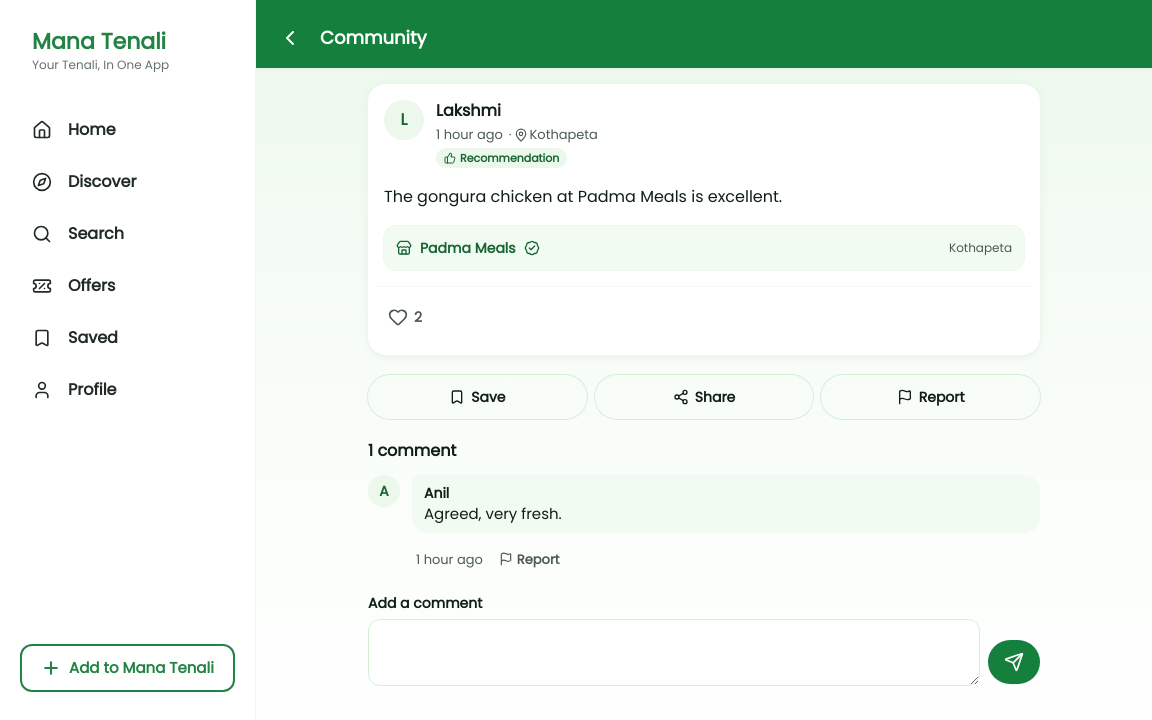
Scenario: post page › shows the full post and comments; signed-in people comment
Check: the text "Agreed, very fresh." is shown, box [424,503,562,524]
Check: the heading "1 comment" is shown, box [368,439,456,462]
Step 1. Click the button named "Send comment" → (1014, 662), box [988,640,1040,684]
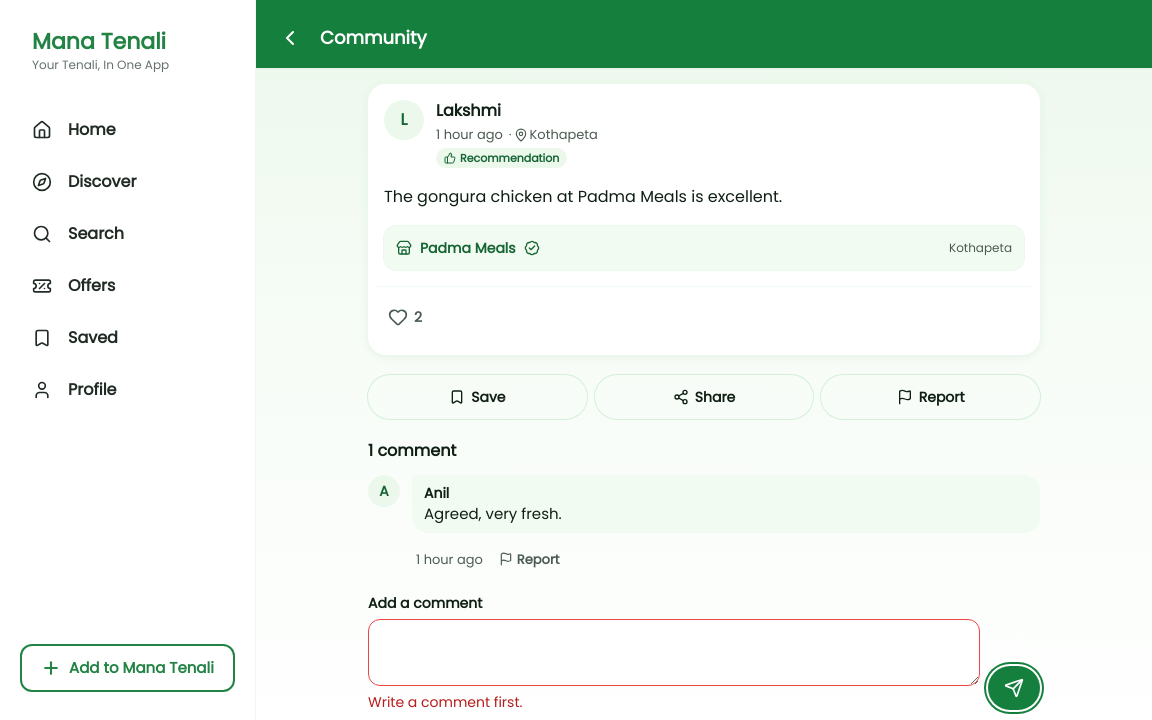
Check: the text "Write a comment first." is shown, box [368,692,522,712]
Step 2. Type "Will try it this week." into the text box labelled "Add a comment" → (674, 653), box [368,619,980,686]
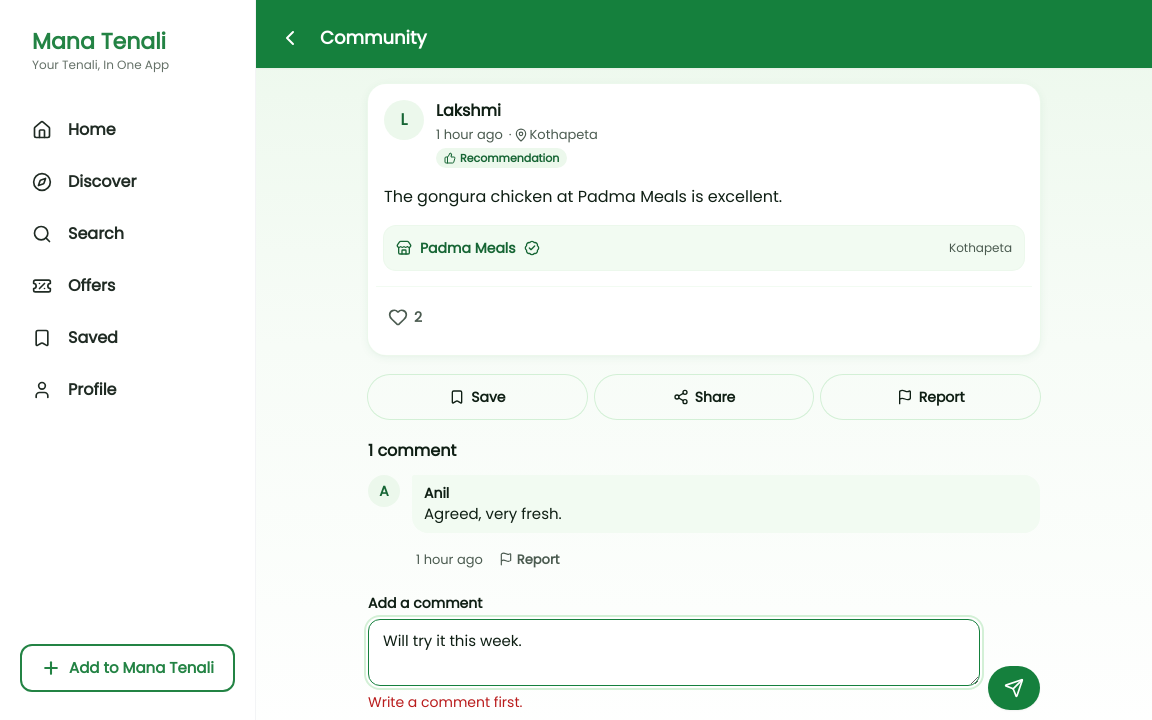
Step 3. Click the button named "Send comment" → (1014, 688), box [988,666,1040,710]
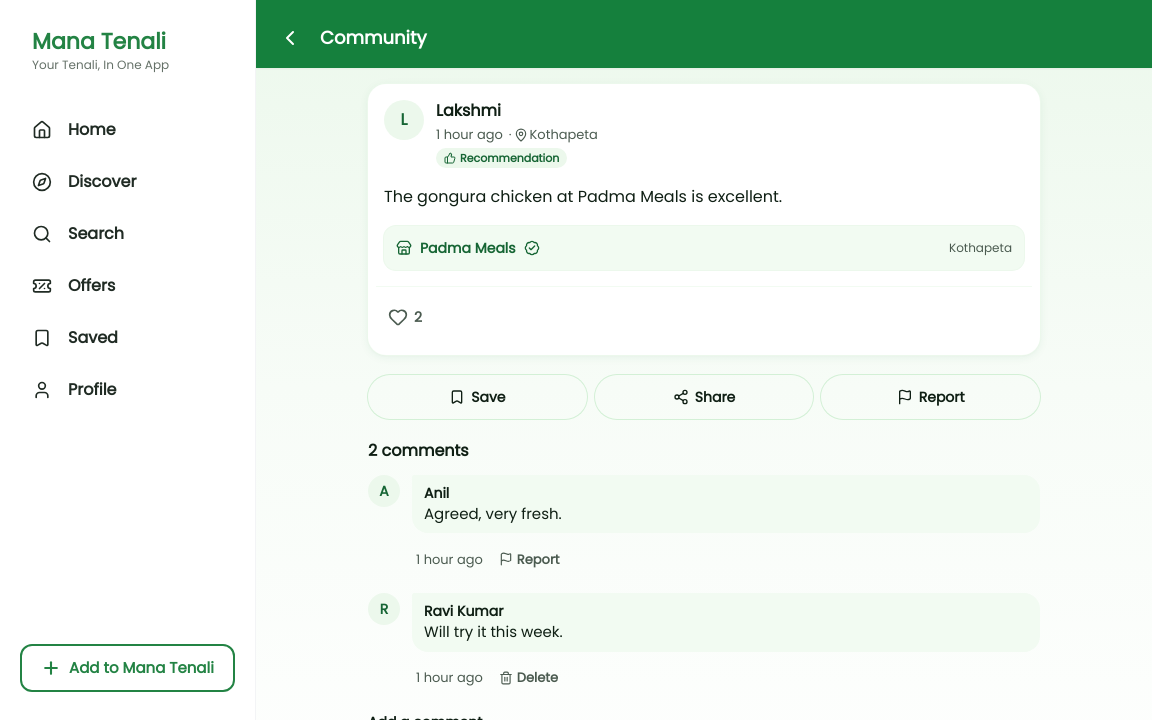
Check: the text "Will try it this week." is shown, box [424,621,563,642]
Check: the heading "2 comments" is shown, box [368,439,469,462]
